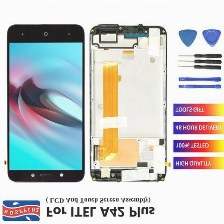phone: (5, 20, 87, 188), (87, 22, 169, 186)
